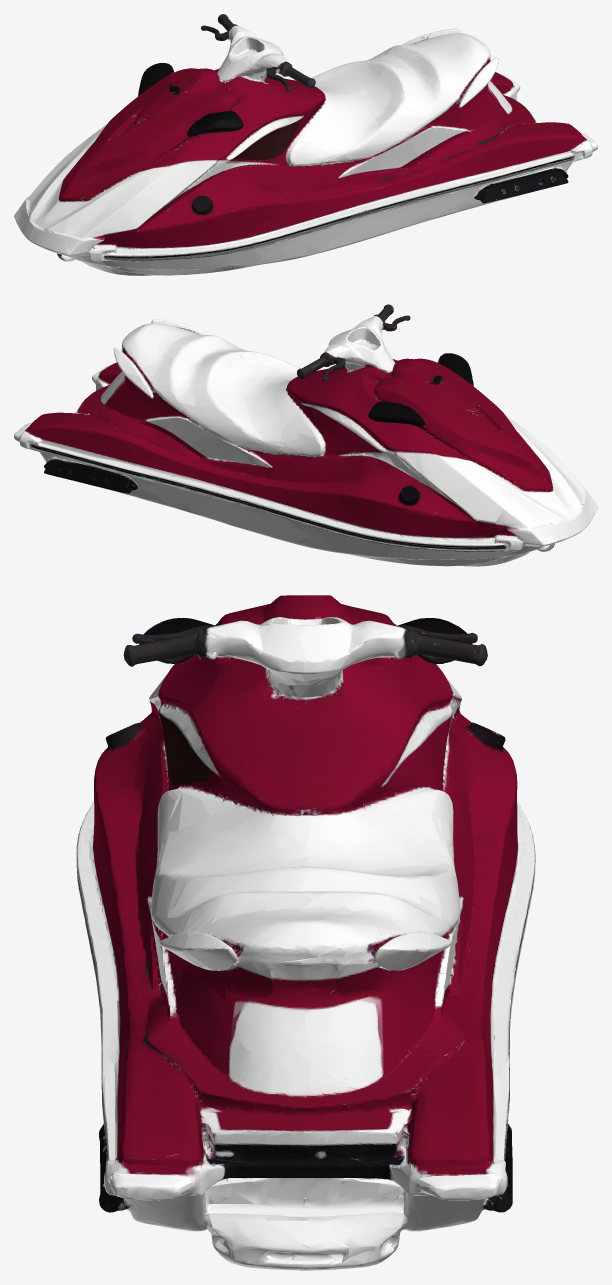
Rendered from mdl-marea.glb.
3 views of the same model, one above another, from view 1: azimuth 30°, elevation 25°; view 2: azimuth 150°, elevation 25°; view 3: azimuth 270°, elevation 25° (orthographic). The views are drawn at different scales.
Bounding box in the file's own units: 1.9 × 0.6933 × 0.7213.
Materials: 1 (1 with a texture image).
